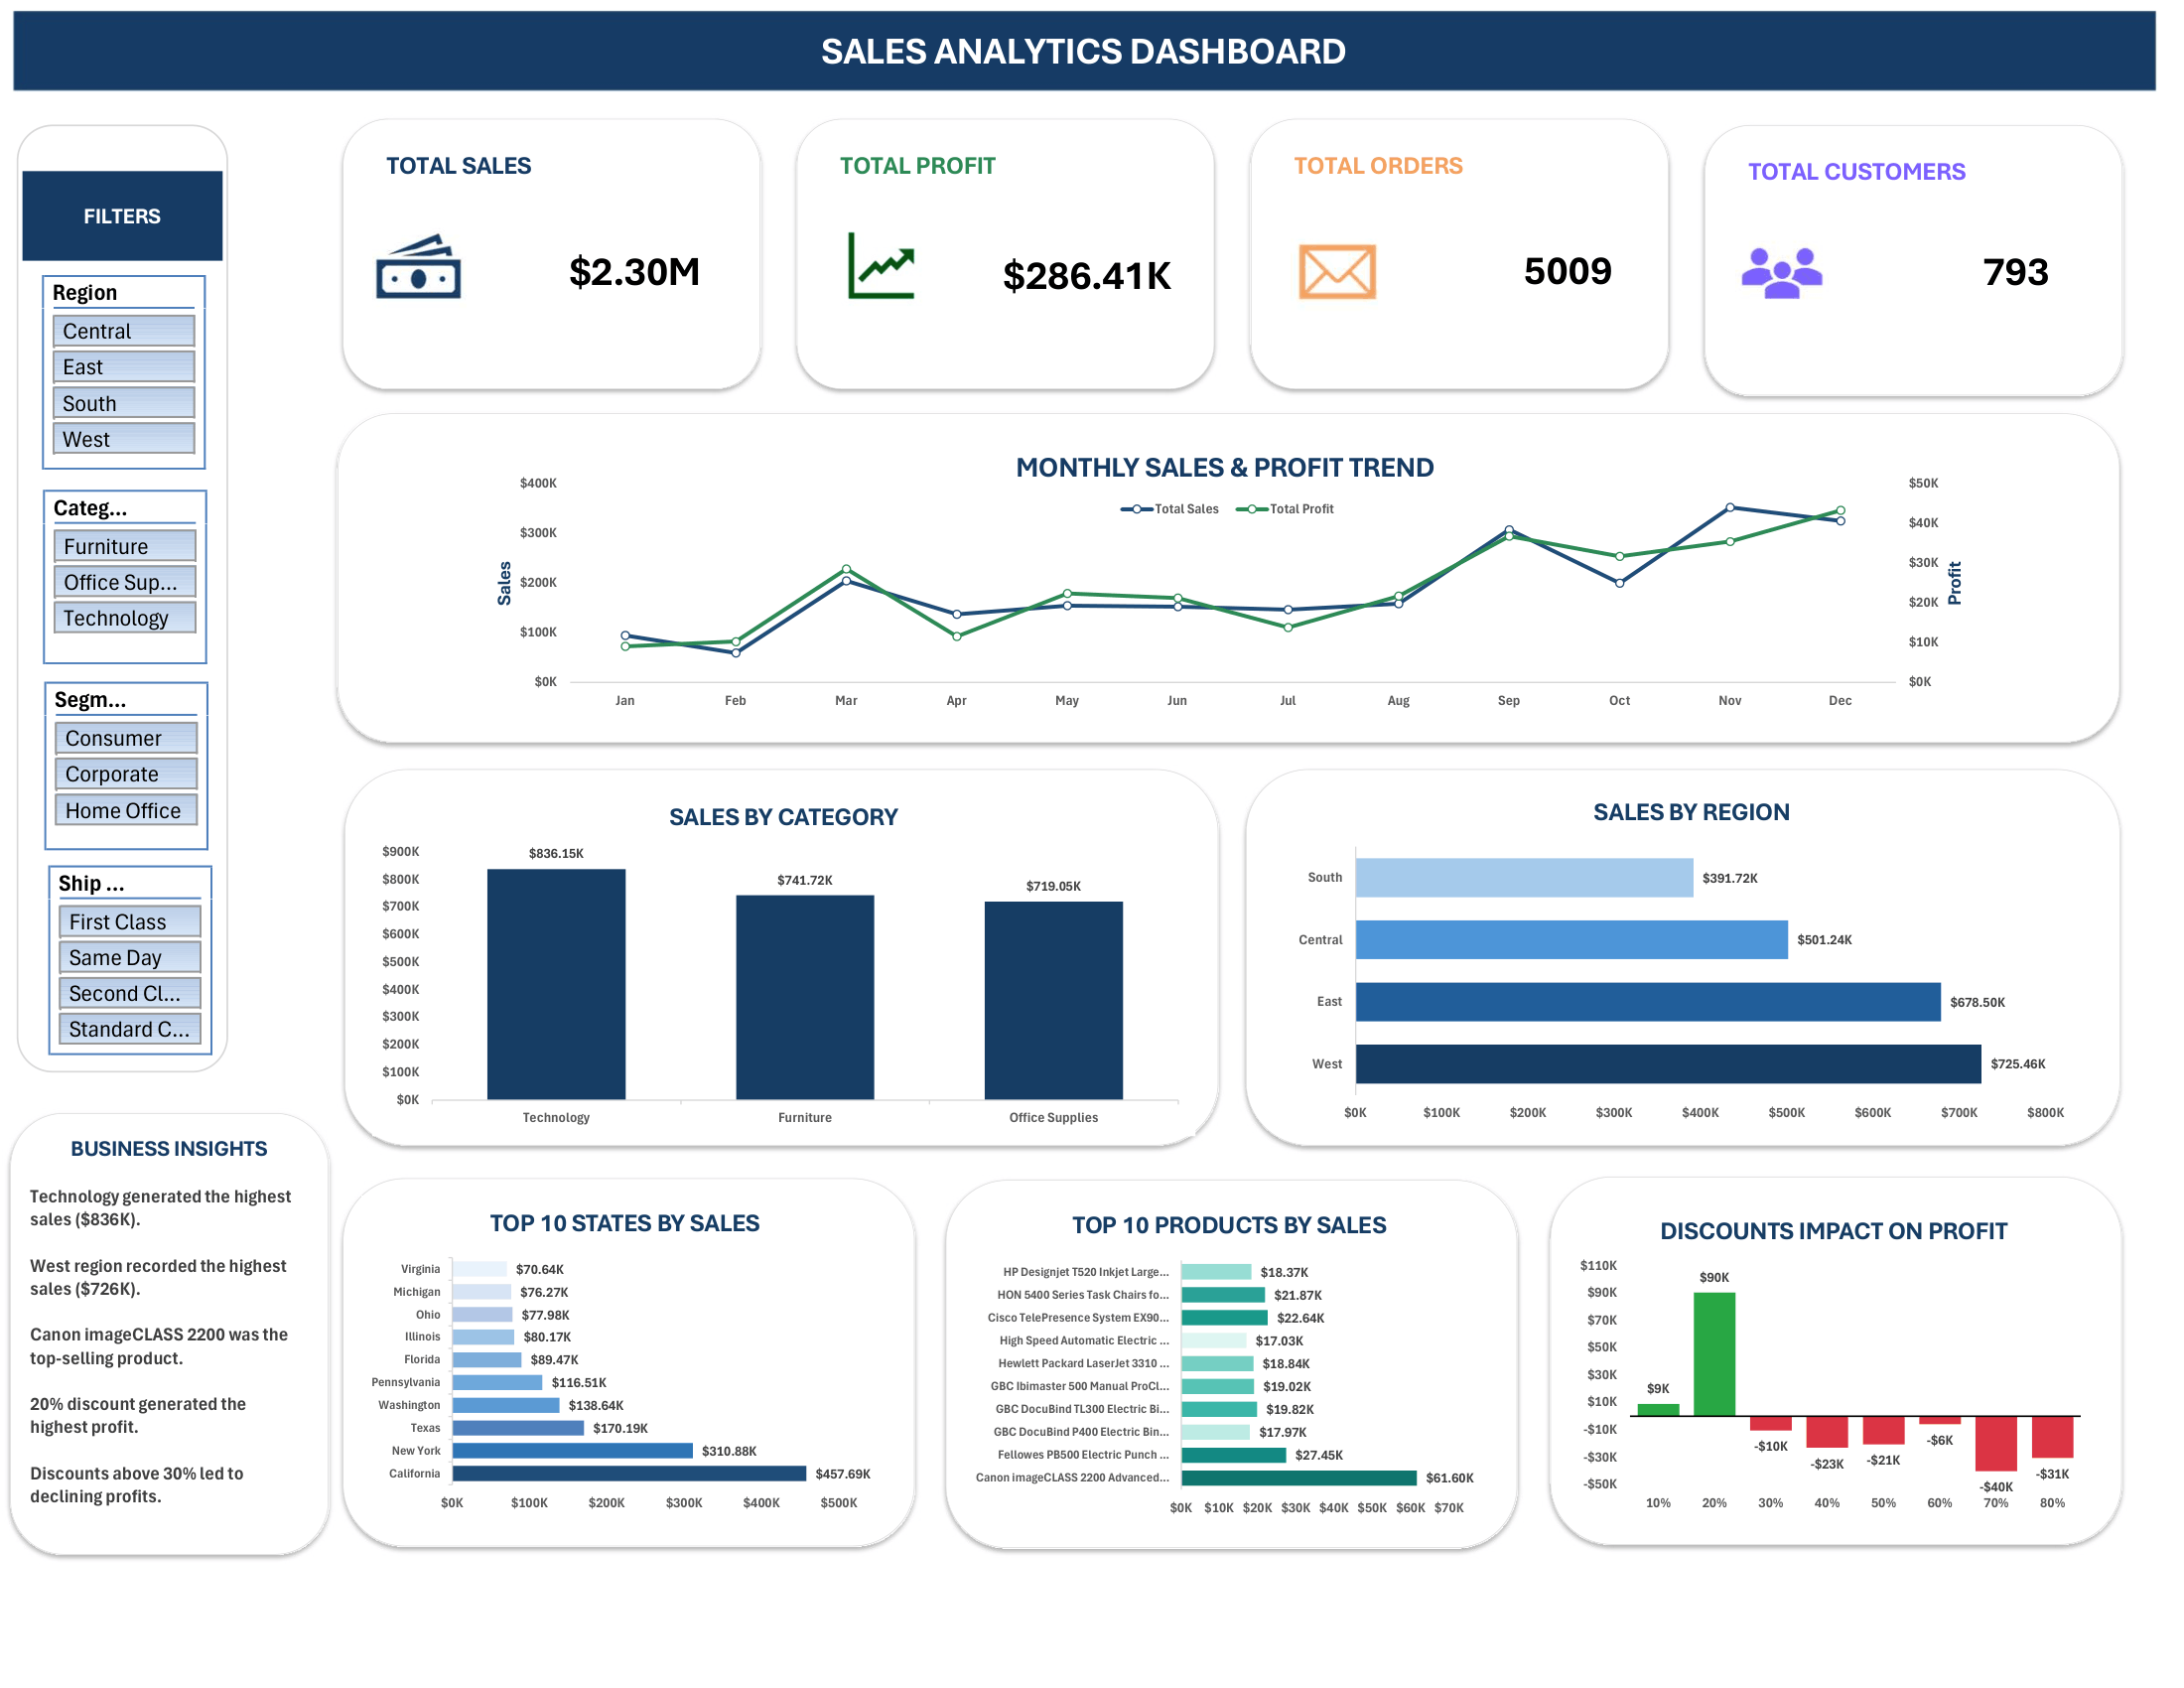

The page's visual inventory and layout, read from the dashboard file:
{"tool":"powerbi","page":{"name":"Page 1","canvas":[1420,964],"ordinal":0},"visuals":[{"type":"shape","box":[0,0,1420.1,60.3],"z":0},{"type":"textbox","box":[447.7,0,627.1,60.3],"z":1000},{"type":"image","box":[395,6,52.8,46.7],"z":2000},{"type":"group","id":"g1","title":"Group 1","box":[186.9,60.3,1233.2,150.8],"z":3000},{"type":"shape","box":[803.5,214.1,616.6,223.1],"z":3000,"group":"g7"},{"type":"cardVisual","fields":{"Data":["sales_analytics superstore_staging.TOTAL SALES","sales_analytics superstore_staging.TOTAL PROFIT","sales_analytics superstore_staging.Orders Display","sales_analytics superstore_staging.TOTAL CUSTOMERS"]},"box":[186.9,60.3,1232.6,151.2],"z":4000,"group":"g1"},{"type":"shape","box":[186.9,214.1,612.1,223.1],"z":4000,"group":"g6"},{"type":"group","id":"g2","title":"Group 2","box":[1014.3,654,405.7,305.8],"z":4000},{"type":"image","box":[505.9,130.3,86.4,63.3],"z":5000,"group":"g1"},{"type":"group","id":"g3","title":"Group 3","box":[658.5,654,348.2,305.8],"z":5000},{"type":"image","box":[814.7,137.1,72,63.3],"z":6000,"group":"g1"},{"type":"clusteredColumnChart","title":"SALES BY CATEGORY","fields":{"Y":["Sum(sales_analytics superstore_staging.Sales)"],"Category":["sales_analytics superstore_staging.Category"]},"box":[194.4,217.1,595.5,215.6],"z":6000,"group":"g6"},{"type":"group","id":"g4","title":"Group 4","box":[304.3,652.5,343.6,305.8],"z":6000},{"type":"image","box":[1113,125.5,85.1,68.5],"z":7000,"group":"g1"},{"type":"clusteredBarChart","title":"SALES BY REGION","fields":{"Category":["sales_analytics superstore_staging.Region"],"Y":["Sum(sales_analytics superstore_staging.Sales)"]},"box":[809.5,217.1,606,215.6],"z":7000,"group":"g7"},{"type":"group","id":"g5","title":"Group 5","box":[186.2,437.5,1229.2,208.9],"z":7000},{"type":"image","box":[202.3,119.1,95.5,84],"z":8000,"group":"g1"},{"type":"group","id":"g6","title":"Group 6","box":[186.9,214.1,612.1,223.1],"z":8000},{"type":"shape","box":[186.2,437.5,1229.2,208.9],"z":8000,"group":"g5"},{"type":"group","id":"g7","title":"Group 7","box":[803.5,214.1,616.6,223.1],"z":9000},{"type":"lineChart","title":"MONTHLY SALES & PROFIT TRENDS","fields":{"Category":["sales_analytics superstore_staging.Month"],"Y":["sales_analytics superstore_staging.SALES VALUE"],"Y2":["sales_analytics superstore_staging.PROFIT VALUE"]},"box":[193.7,444.4,1211.1,196.8],"z":9000,"group":"g5"},{"type":"shape","box":[4.5,65.1,175.6,581.3],"z":10000},{"type":"shape","box":[304.3,652.5,343.6,305.8],"z":10000,"group":"g4"},{"type":"shape","box":[658.5,654,348.2,305.8],"z":11000,"group":"g3"},{"type":"shape","box":[4.5,655.5,290.7,304.3],"z":11000},{"type":"textbox","box":[14.4,78.4,158.5,51.2],"z":12000},{"type":"shape","box":[1014.3,654,405.7,305.8],"z":12000,"group":"g2"},{"type":"slicer","fields":{"Values":["sales_analytics superstore_staging.Region"]},"box":[11.2,140.8,163.3,76.8],"z":13000},{"type":"clusteredBarChart","title":"TOP 10 STATES BY SALES","fields":{"Category":["sales_analytics superstore_staging.State"],"Y":["Sum(sales_analytics superstore_staging.Sales)"]},"box":[312,655.5,325.9,298.2],"z":13000,"group":"g4"},{"type":"clusteredBarChart","title":"TOP 10 PRODUCTS BY SALES","fields":{"Y":["Sum(sales_analytics superstore_staging.Sales)"],"Category":["sales_analytics superstore_staging.Product_Name"]},"box":[665,658.5,330,296.7],"z":13002,"group":"g3"},{"type":"clusteredColumnChart","title":"IMPACT OF DISCOUNTS ON PROFIT","fields":{"Y":["Sum(sales_analytics superstore_staging.Profit)"],"Category":["sales_analytics superstore_staging.Discount Label"]},"box":[1018.8,658.5,393,296.7],"z":13003,"group":"g2"},{"type":"slicer","fields":{"Values":["sales_analytics superstore_staging.State"]},"box":[14.4,248.1,163.3,76.8],"z":14000},{"type":"slicer","fields":{"Values":["sales_analytics superstore_staging.Category"]},"box":[11.2,368.1,163.3,76.8],"z":15000},{"type":"slicer","fields":{"Values":["sales_analytics superstore_staging.Segment"]},"box":[14.4,465.8,163.3,76.8],"z":16000},{"type":"slicer","fields":{"Values":["sales_analytics superstore_staging.Ship_Mode"]},"box":[11.2,565,163.3,76.8],"z":17000},{"type":"textbox","box":[22.7,658.5,254.3,50],"z":18000},{"type":"textbox","box":[15.1,708.5,272.5,245.2],"z":19000}]}

Visuals, with their boxes on the page's 1420x964 design canvas (x1, y1, x2, y2). These are canvas units, not pixel positions in the 2184x1688 screenshot, which may show the page scaled, cropped or inside an application window:
shape: bbox=[0, 0, 1420, 60]
textbox: bbox=[448, 0, 1075, 60]
image: bbox=[395, 6, 448, 53]
"Group 1" group: bbox=[187, 60, 1420, 211]
shape: bbox=[804, 214, 1420, 437]
cardVisual - sales_analytics superstore_staging.TOTAL SALES x sales_analytics superstore_staging.TOTAL PROFIT: bbox=[187, 60, 1420, 212]
shape: bbox=[187, 214, 799, 437]
"Group 2" group: bbox=[1014, 654, 1420, 960]
image: bbox=[506, 130, 592, 194]
"Group 3" group: bbox=[658, 654, 1007, 960]
image: bbox=[815, 137, 887, 200]
"SALES BY CATEGORY" clusteredColumnChart: bbox=[194, 217, 790, 433]
"Group 4" group: bbox=[304, 652, 648, 958]
image: bbox=[1113, 126, 1198, 194]
"SALES BY REGION" clusteredBarChart: bbox=[810, 217, 1416, 433]
"Group 5" group: bbox=[186, 438, 1415, 646]
image: bbox=[202, 119, 298, 203]
"Group 6" group: bbox=[187, 214, 799, 437]
shape: bbox=[186, 438, 1415, 646]
"Group 7" group: bbox=[804, 214, 1420, 437]
"MONTHLY SALES & PROFIT TRENDS" lineChart: bbox=[194, 444, 1405, 641]
shape: bbox=[4, 65, 180, 646]
shape: bbox=[304, 652, 648, 958]
shape: bbox=[658, 654, 1007, 960]
shape: bbox=[4, 656, 295, 960]
textbox: bbox=[14, 78, 173, 130]
shape: bbox=[1014, 654, 1420, 960]
slicer - sales_analytics superstore_staging.Region: bbox=[11, 141, 174, 218]
"TOP 10 STATES BY SALES" clusteredBarChart: bbox=[312, 656, 638, 954]
"TOP 10 PRODUCTS BY SALES" clusteredBarChart: bbox=[665, 658, 995, 955]
"IMPACT OF DISCOUNTS ON PROFIT" clusteredColumnChart: bbox=[1019, 658, 1412, 955]
slicer - sales_analytics superstore_staging.State: bbox=[14, 248, 178, 325]
slicer - sales_analytics superstore_staging.Category: bbox=[11, 368, 174, 445]
slicer - sales_analytics superstore_staging.Segment: bbox=[14, 466, 178, 543]
slicer - sales_analytics superstore_staging.Ship_Mode: bbox=[11, 565, 174, 642]
textbox: bbox=[23, 658, 277, 708]
textbox: bbox=[15, 708, 288, 954]
